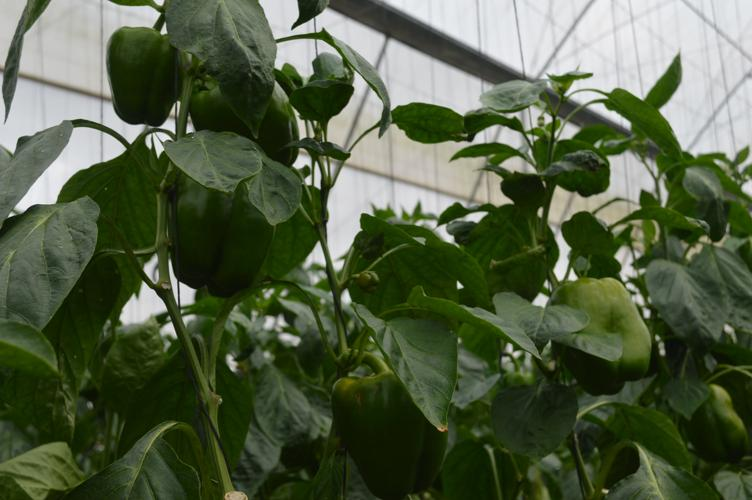BellPepper: (322, 367, 457, 500), (155, 162, 270, 312), (545, 276, 658, 401), (187, 78, 308, 166), (100, 22, 185, 131), (679, 376, 751, 480)
